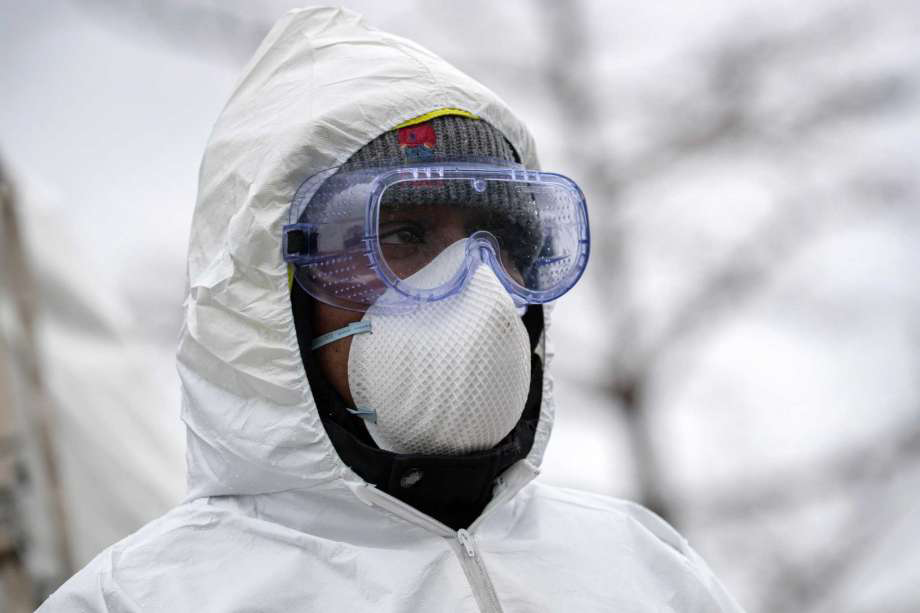Coverall: (29, 48, 733, 613)
Goggles: (284, 159, 595, 312)
with_mask: (336, 209, 547, 462)
